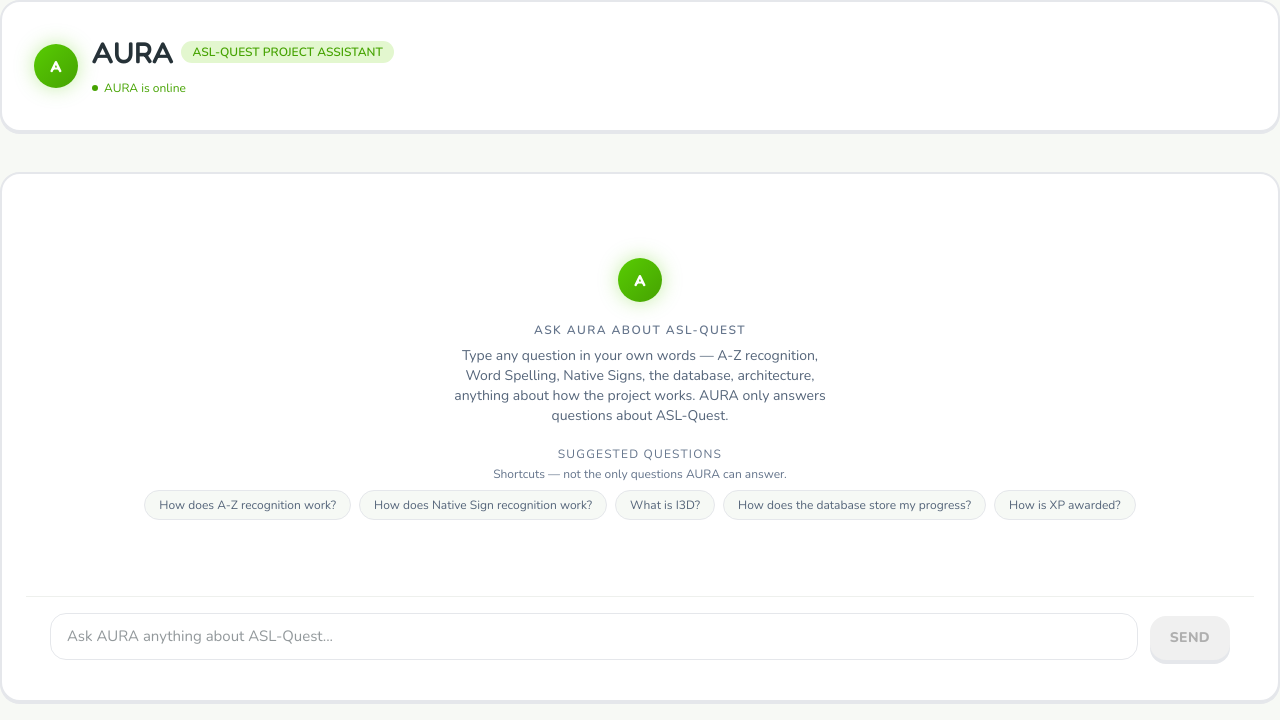
Test: ChatbotPage: offline knowledge-base fallback › labels a reply as coming from the offline knowledge base when no LLM answered it
Type "How is XP awarded?" into the text box named "Message AURA" at [594, 636], box [50,613,1138,660]
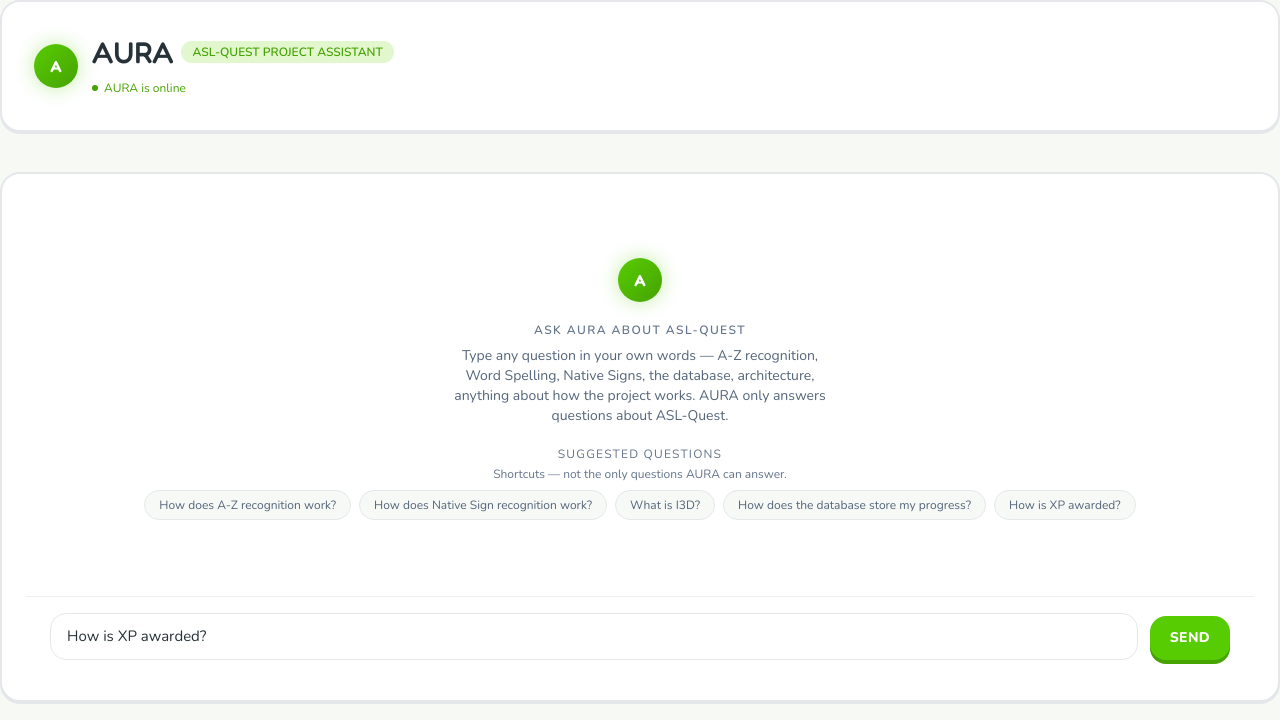
Click the button with aria-label "Send message to AURA" at [1190, 638], box [1150,616,1230,660]
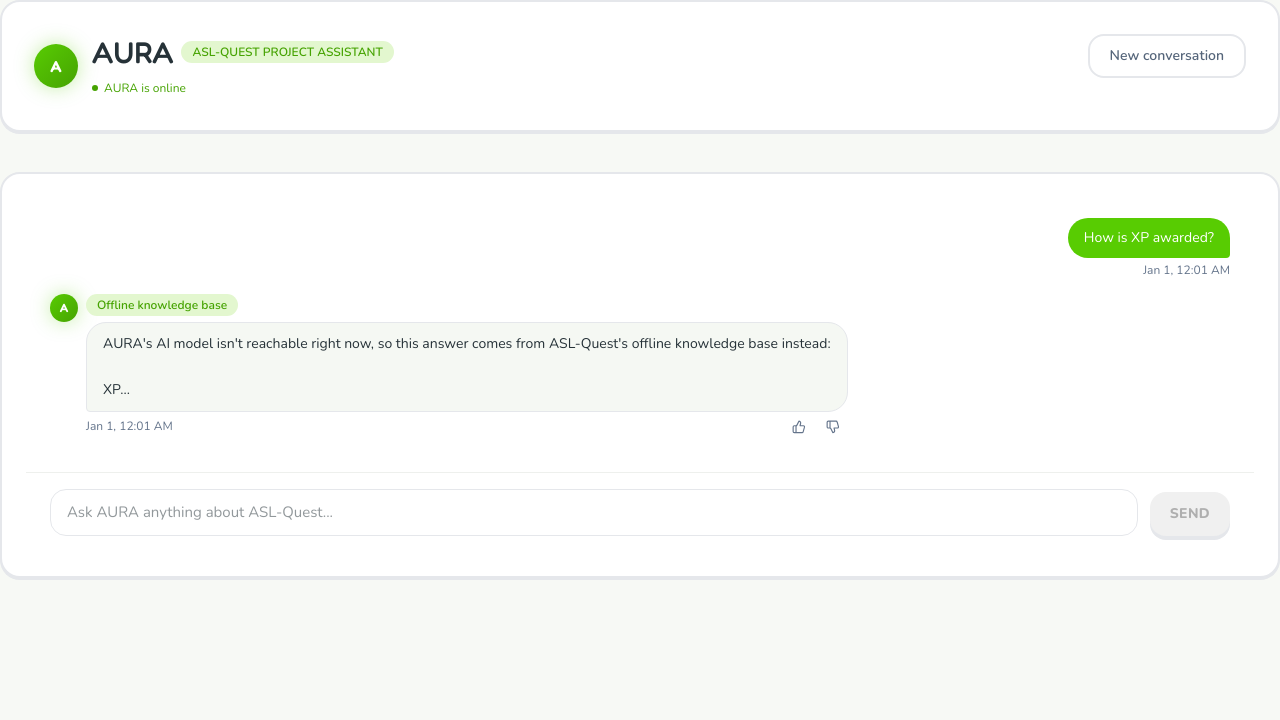
Expected: the text "Offline knowledge base" is shown, [86,294,238,316]
